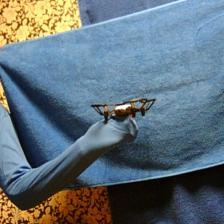drone: (90, 98, 156, 121)
